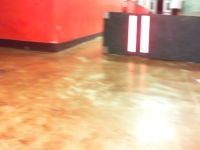switch: (127, 15, 138, 52), (140, 16, 150, 53)
